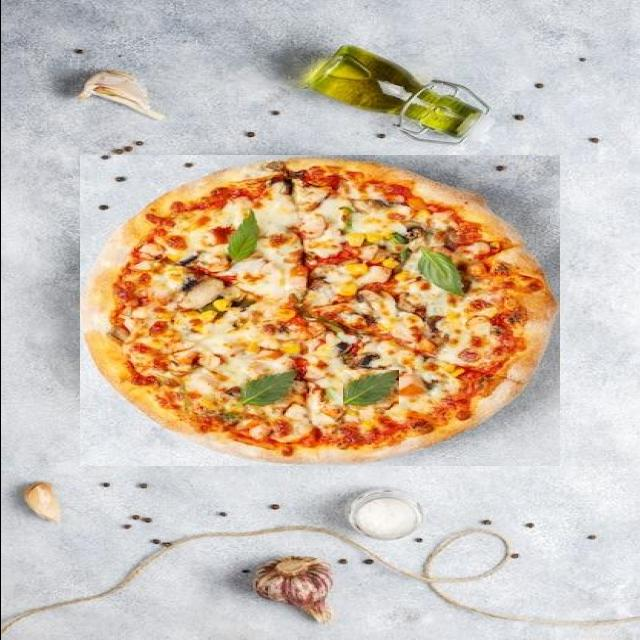basil: (172, 248, 220, 298), (342, 370, 398, 410), (380, 209, 410, 263)
pizza: (79, 155, 559, 466)
